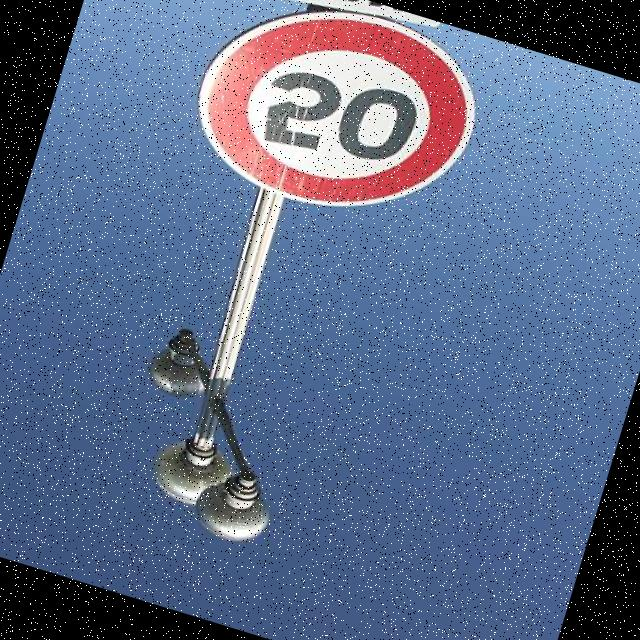speed_limit_50: (154, 0, 519, 270)
